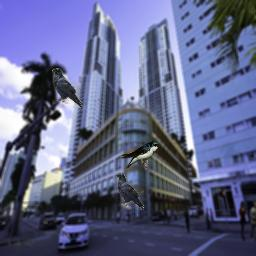Crow: (52, 68, 82, 108), (116, 173, 144, 210)
Swallow: (120, 140, 160, 170)
